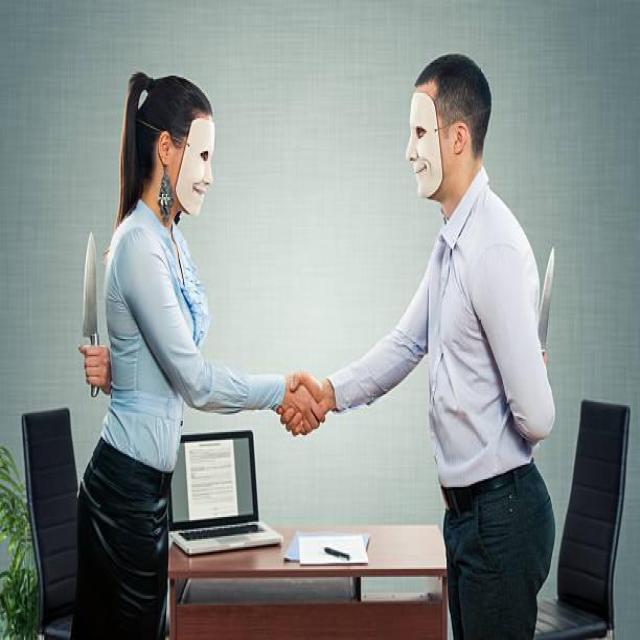faca: (69, 225, 117, 418)
